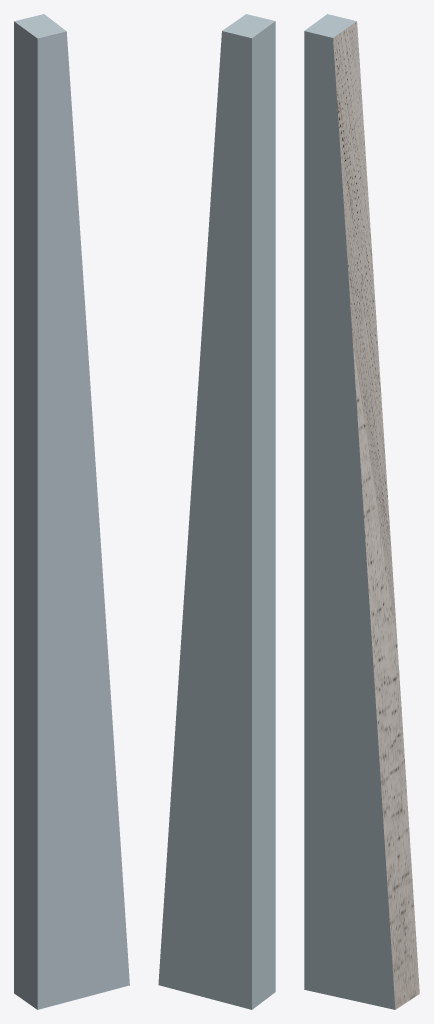
Rendered from glass1.glb.
The picture shows the model from 3 angles, left to right: view 1: azimuth 30°, elevation 25°; view 2: azimuth 150°, elevation 25°; view 3: azimuth 330°, elevation 25°; orthographic projection.
Parts seen in each view (by area): view 1: broken_window_cell.005; view 2: broken_window_cell.005; view 3: broken_window_cell.005.
Boxes of the visible parts, <box> form: broken_window_cell.005: <box>14,14,129,1009</box>; broken_window_cell.005: <box>158,14,275,1009</box>; broken_window_cell.005: <box>304,14,419,1009</box>.
Bounding box in the file's own units: 0.1082 × 1.07 × 0.0471.
2 materials, 1 textured.
